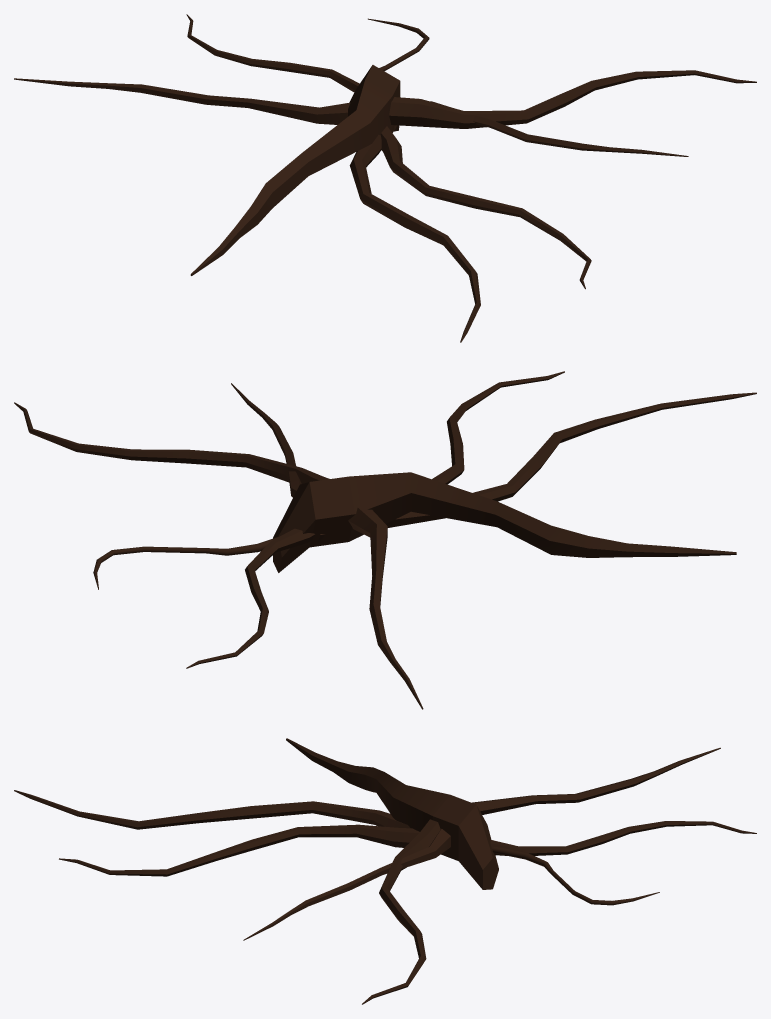
The model's file is SM_roots_jungle_02.fbx.
3 renders of one model, top to bottom at view 1: azimuth 30°, elevation 25°; view 2: azimuth 150°, elevation 25°; view 3: azimuth 270°, elevation 25°, orthographic. The views are drawn at different scales.
Parts seen in each view (by area): view 1: Line004; view 2: Line004; view 3: Line004.
Part boxes in pixels (x1,y1,x2,y2): Line004: [14, 14, 756, 342]; Line004: [14, 371, 756, 709]; Line004: [14, 738, 756, 1004].
Bounding box in the file's own units: 331 × 41.74 × 370.
